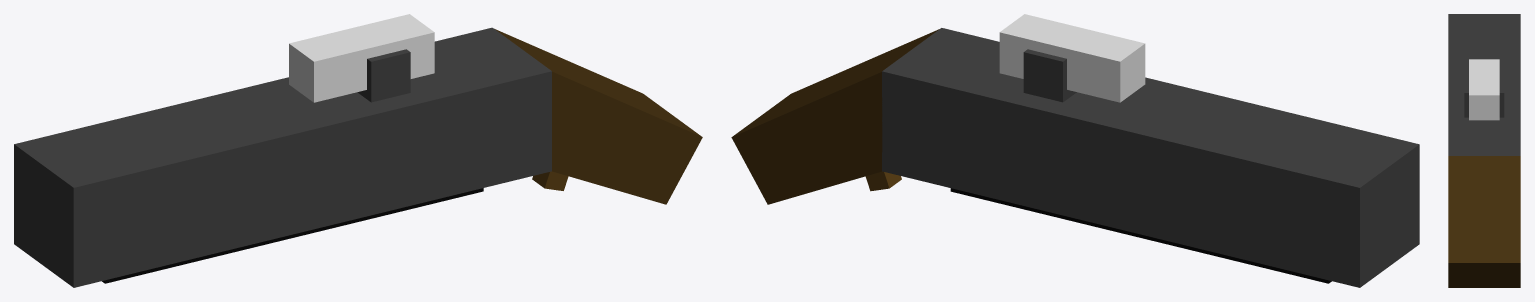
File: Shotgun.fbx
3 views of the same model, side by side, from view 1: azimuth 30°, elevation 25°; view 2: azimuth 150°, elevation 25°; view 3: azimuth 270°, elevation 25° (orthographic). The views are drawn at different scales.
Parts seen in each view (by area): view 1: Cube, Cube.001, Cube.005, Cube.004, Cube.002, Cube.003; view 2: Cube, Cube.001, Cube.005, Cube.004, Cube.002, Cube.003; view 3: Cube.001, Cube, Cube.005, Cube.004.
Boxes of the visible parts, x1,y1,x2,y2 form: Cube: (14, 27, 551, 287); Cube.001: (494, 28, 702, 204); Cube.005: (289, 14, 434, 102); Cube.004: (357, 49, 410, 102); Cube.002: (102, 188, 483, 283); Cube.003: (532, 171, 568, 190); Cube: (882, 28, 1419, 287); Cube.001: (731, 29, 939, 204); Cube.005: (999, 14, 1145, 102); Cube.004: (1023, 49, 1076, 102); Cube.002: (950, 188, 1331, 283); Cube.003: (865, 171, 901, 191); Cube.001: (1448, 156, 1520, 287); Cube: (1448, 14, 1520, 155); Cube.005: (1469, 59, 1499, 120); Cube.004: (1464, 81, 1504, 117).
Size of the model in its own units: 526 by 170 by 86.45.
